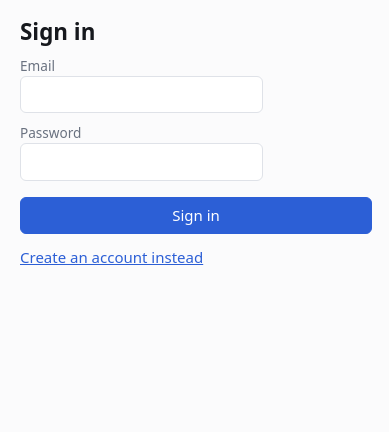
Test: SignInForm › switches to registration and asks for a name
Click the button "Create an account instead". click: (112,257)
box: 20,246 -> 203,268
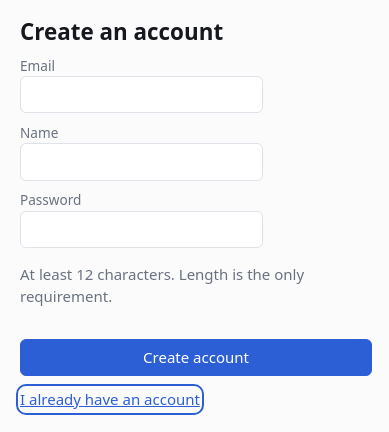
Expected: the field labelled "Name" is shown, 20,143 -> 263,181
Expected: the heading "Create an account" is shown, 20,16 -> 223,47
